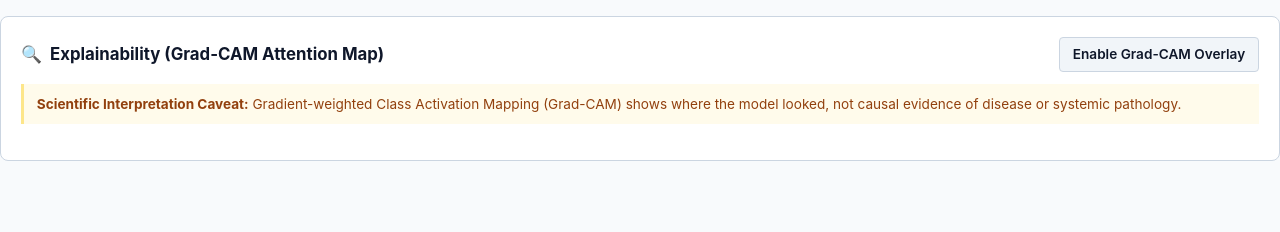
Test case: Part 4 Advanced Features Test Suite › 5. Grad-CAM displays caveat and is BLOCKED when model is in STUB state
Expected: the text "shows where the model looked, not causal evidence" is shown, [249,96,1181,112]
Toggle on
Click the button "Enable Grad-CAM Overlay" at (1159, 55), box [1059,37,1259,72]
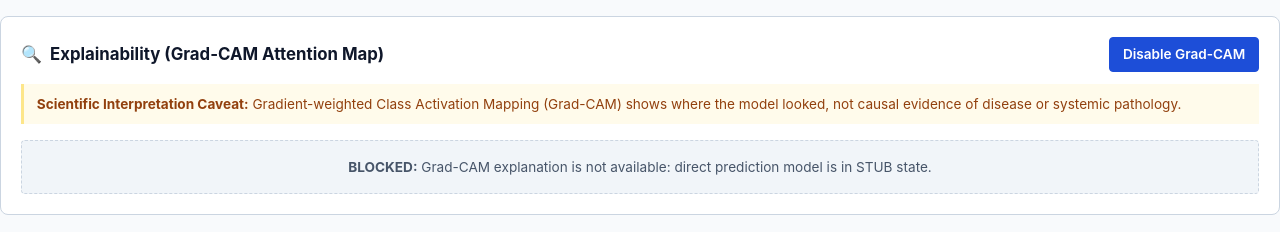
Result: the text "Grad-CAM explanation is not available: direct prediction model is in STUB state" is shown at [421,159,932,175]
